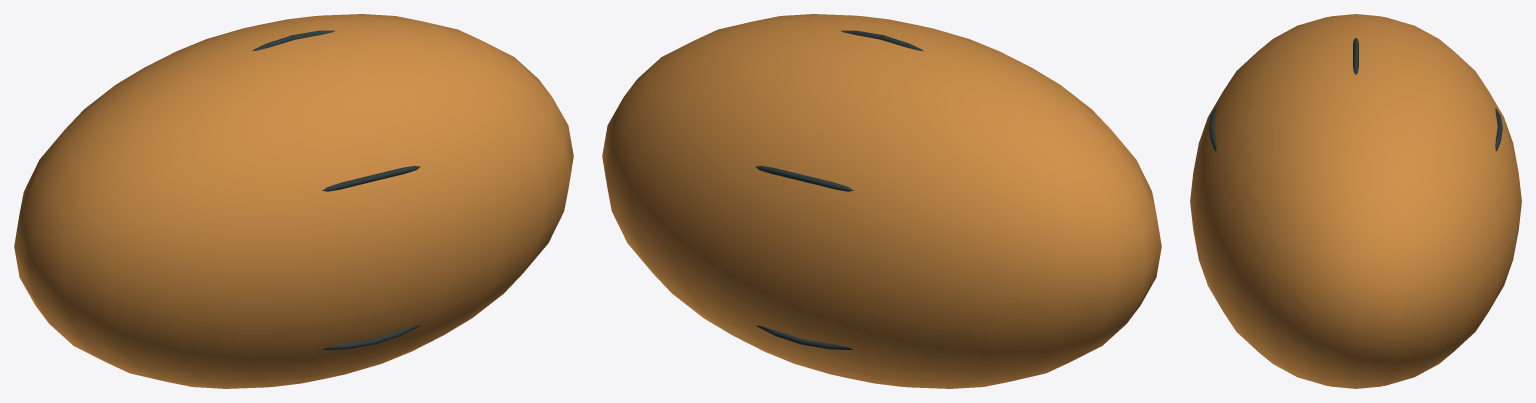
Rendered from wp-ballon-de-rugby.glb.
3 renders of one model, left to right at view 1: azimuth 30°, elevation 25°; view 2: azimuth 150°, elevation 25°; view 3: azimuth 270°, elevation 25°, orthographic. The views are drawn at different scales.
Visible parts, largest first — view 1: wp-ballon-de-rugby; view 2: wp-ballon-de-rugby; view 3: wp-ballon-de-rugby.
Part boxes in pixels (x1=…): wp-ballon-de-rugby: x1=14, y1=14, x2=573, y2=388; wp-ballon-de-rugby: x1=602, y1=14, x2=1161, y2=388; wp-ballon-de-rugby: x1=1190, y1=14, x2=1521, y2=388.
Size of the model in its own units: 0.3 by 0.18 by 0.18.
